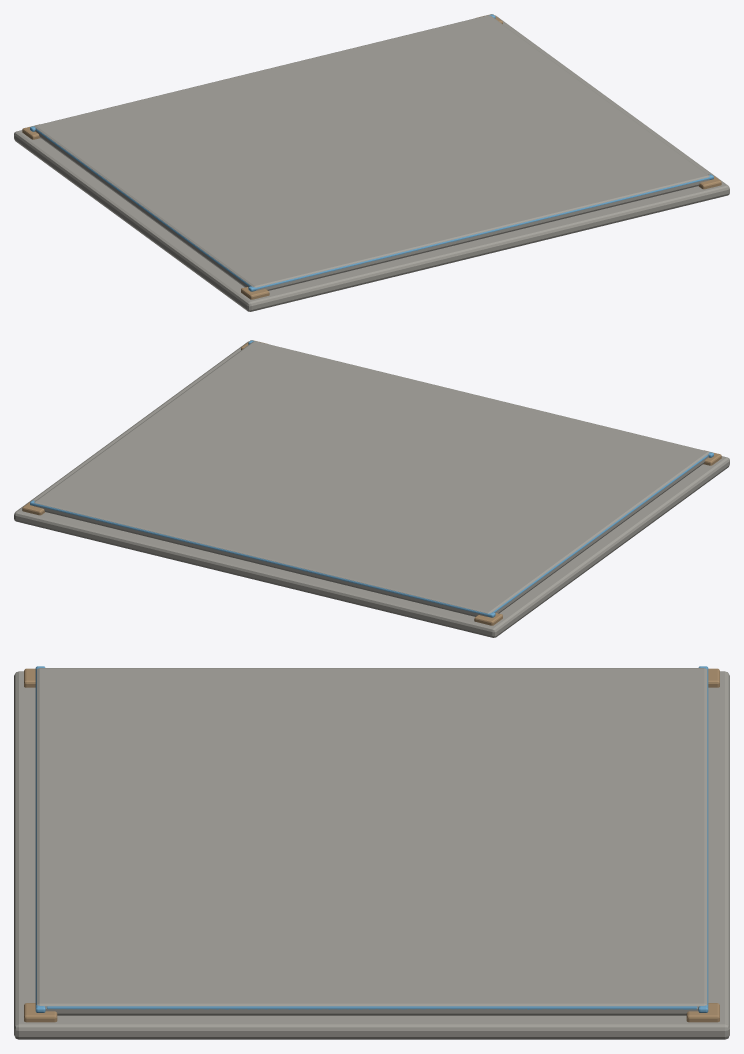
Rendered from stronghold_base_corner.glb.
The picture shows the model from 3 angles, top to bottom: view 1: azimuth 30°, elevation 25°; view 2: azimuth 150°, elevation 25°; view 3: azimuth 270°, elevation 25°; orthographic projection. The views are drawn at different scales.
Visible parts, largest first — view 1: GEO_PadUpper.001, GEO_PadLower.001, GEO_TrimBand_S.001, GEO_TrimBand_W.001; view 2: GEO_PadUpper.001, GEO_PadLower.001, GEO_TrimBand_N.001, GEO_TrimBand_W.001; view 3: GEO_PadUpper.001, GEO_PadLower.001, GEO_TrimBand_E.001, GEO_TrimBand_N.001, GEO_TrimBand_S.001.
Boxes of the visible parts, x1,y1,x2,y2 form: GEO_PadUpper.001: (34, 15, 709, 290); GEO_PadLower.001: (14, 15, 729, 311); GEO_TrimBand_S.001: (248, 174, 713, 291); GEO_TrimBand_W.001: (36, 129, 250, 286); GEO_PadUpper.001: (34, 341, 709, 616); GEO_PadLower.001: (14, 341, 729, 637); GEO_TrimBand_N.001: (30, 500, 495, 617); GEO_TrimBand_W.001: (493, 455, 707, 612); GEO_PadUpper.001: (36, 668, 707, 1015); GEO_PadLower.001: (14, 671, 729, 1039); GEO_TrimBand_E.001: (46, 1006, 697, 1009); GEO_TrimBand_N.001: (698, 666, 708, 1012); GEO_TrimBand_S.001: (35, 666, 45, 1012).
Size of the model in its own units: 5.07 by 0.18 by 4.3.
